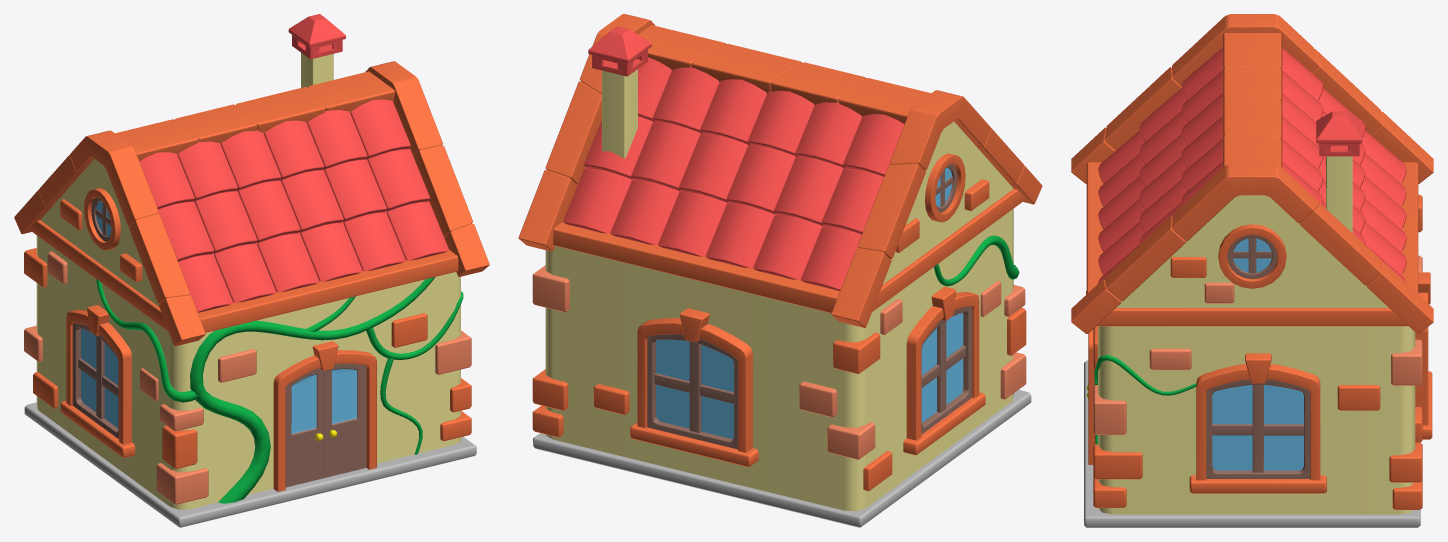
File: Town_10_House_2.glb
3 views of the same model, side by side, from view 1: azimuth 30°, elevation 25°; view 2: azimuth 150°, elevation 25°; view 3: azimuth 270°, elevation 25° (orthographic). The views are drawn at different scales.
Visible parts, largest first — view 1: Town_10_House_2; view 2: Town_10_House_2; view 3: Town_10_House_2.
Boxes of the visible parts, x1,y1,x2,y2 form: Town_10_House_2: (14, 14, 489, 527); Town_10_House_2: (518, 14, 1042, 527); Town_10_House_2: (1071, 14, 1433, 527).
Bounding box in the file's own units: 6.83 × 7.53 × 6.3.
Materials: 1 (1 with a texture image).
